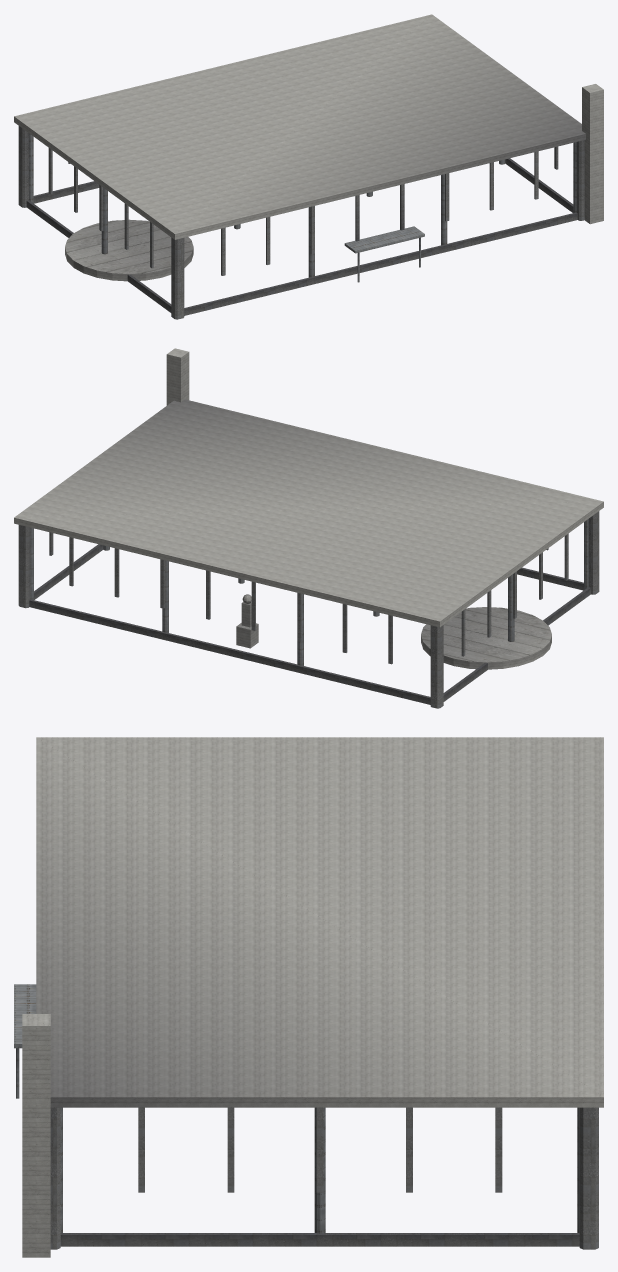
Rendered from founders-plaza_lod0.gltf.
3 renders of one model, top to bottom at view 1: azimuth 30°, elevation 25°; view 2: azimuth 150°, elevation 25°; view 3: azimuth 270°, elevation 25°, orthographic. The views are drawn at different scales.
Visible parts, largest first — view 1: founders-plaza_roof, founders-plaza__v4_stone_detail, founders-plaza__fountain, founders-plaza__pylon, founders-plaza_columns, founders-plaza__v4_metal_detail; view 2: founders-plaza_roof, founders-plaza__v4_stone_detail, founders-plaza__fountain, founders-plaza_columns, founders-plaza__pylon, founders-plaza__statue; view 3: founders-plaza_roof, founders-plaza__v4_stone_detail, founders-plaza__pylon, founders-plaza_columns, founders-plaza__v4_metal_detail.
Boxes of the visible parts, x1,y1,x2,y2 form: founders-plaza_roof: [14, 14, 585, 239]; founders-plaza__v4_stone_detail: [18, 126, 584, 319]; founders-plaza__fountain: [65, 219, 193, 281]; founders-plaza__pylon: [582, 84, 603, 224]; founders-plaza_columns: [29, 133, 576, 277]; founders-plaza__v4_metal_detail: [344, 226, 424, 282]; founders-plaza_roof: [14, 399, 603, 627]; founders-plaza__v4_stone_detail: [18, 511, 599, 708]; founders-plaza__fountain: [421, 607, 551, 669]; founders-plaza_columns: [30, 519, 588, 665]; founders-plaza__pylon: [166, 348, 189, 405]; founders-plaza__statue: [236, 594, 258, 648]; founders-plaza_roof: [36, 737, 603, 1107]; founders-plaza__v4_stone_detail: [50, 1107, 598, 1249]; founders-plaza__pylon: [22, 1014, 50, 1257]; founders-plaza_columns: [60, 1107, 579, 1233]; founders-plaza__v4_metal_detail: [14, 984, 36, 1098].
Bounding box in the file's own units: 64 × 18 × 41.58.
